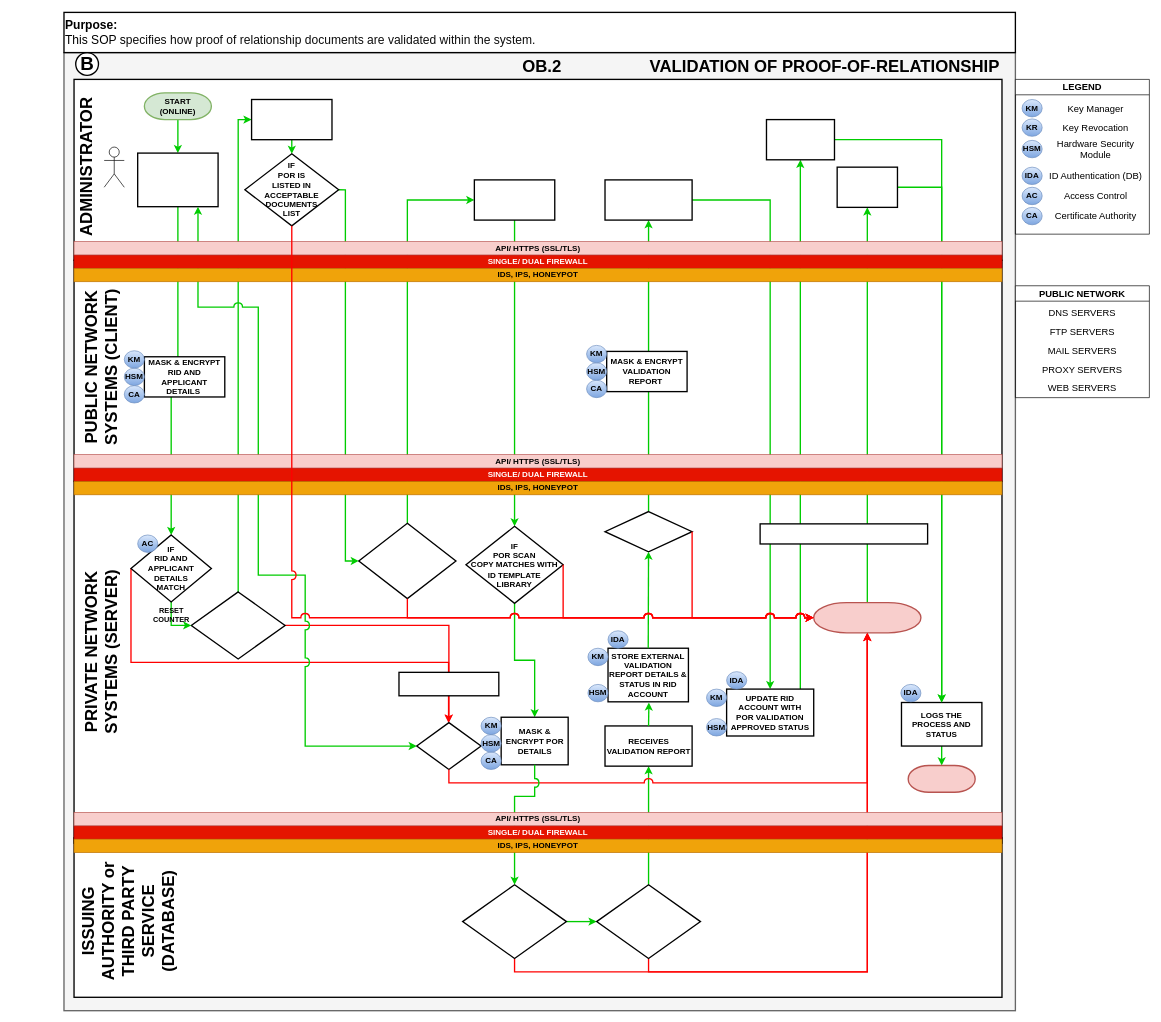
Some shapes in this 1161 by 1022 pixel diagram are drawn without their labels. The centre of each missing label's shape, as x and y in pixels:
ADMIN: (x=114, y=166)
CONFIRMS VALIDATION SUCCESS: (x=648, y=199)
CONTACT ISSUING AUTHORITY FOR VALIDATION: (x=514, y=199)
END: (x=941, y=778)
EXCEPTION AND ERROR HANDLING (COUNTER): (x=448, y=683)
IF POI AND POA VALIDATION IS APPROVED: (x=237, y=625)
IF POR DOCUMENT NUMBER AND DETAILS MATCH: (x=514, y=921)
IF POR IS NOT EXPIRED MORE THAN THREE MONTHS: (x=407, y=560)
IF POR NOT IN LOST or THEFT DOCUMENT DATABASE: (x=648, y=921)
IF RETRY COUNT <=3: (x=448, y=746)
IF VALIDATION SUCCESS: (x=648, y=531)
INITIATE POR VALIDATION: (x=291, y=119)
NOTIFICATION GENERATOR: (x=843, y=533)
RECEIVE APPLICATION REJECTED STATUS: (x=867, y=187)
RECEIVE APPLICATION WITH RID AND APPLICANT DETAILS: (x=177, y=179)
RECEIVE POR VALIDATION APPROVED STATUS: (x=800, y=139)
TERMINATE PROCESS: REJECT APPLICATION: (x=867, y=617)
